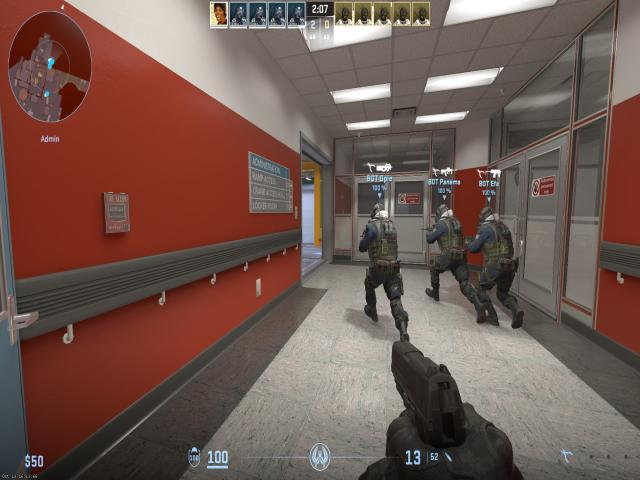CT: (478, 206, 511, 321), (368, 204, 396, 326), (438, 205, 463, 294)
CT-Head: (478, 208, 494, 228), (371, 205, 386, 225), (436, 204, 449, 223)
